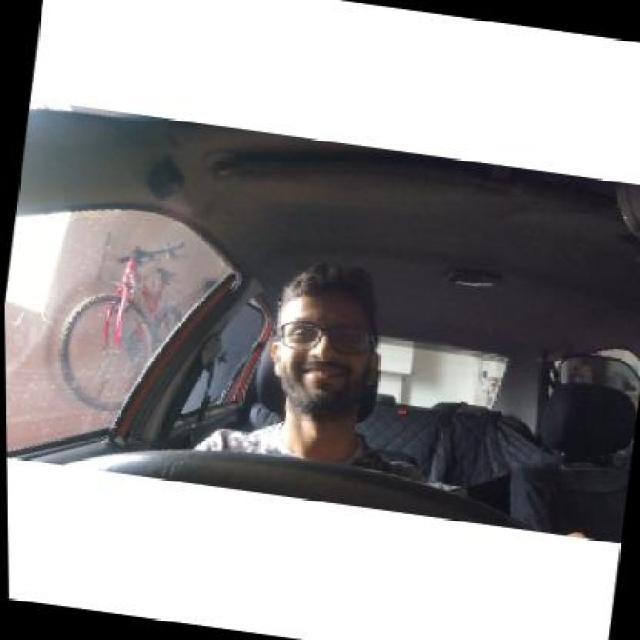person: (274, 255, 388, 432)
